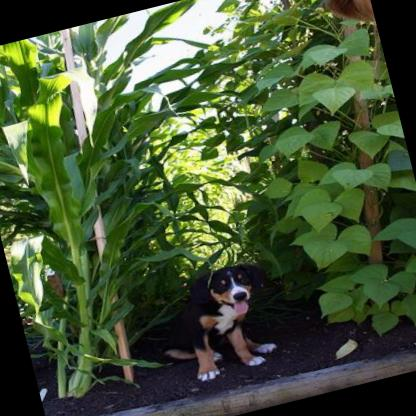EntleBucher: (112, 257, 282, 398)
